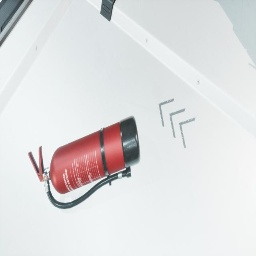FireExtinguisher ]: (28, 116, 140, 209)
